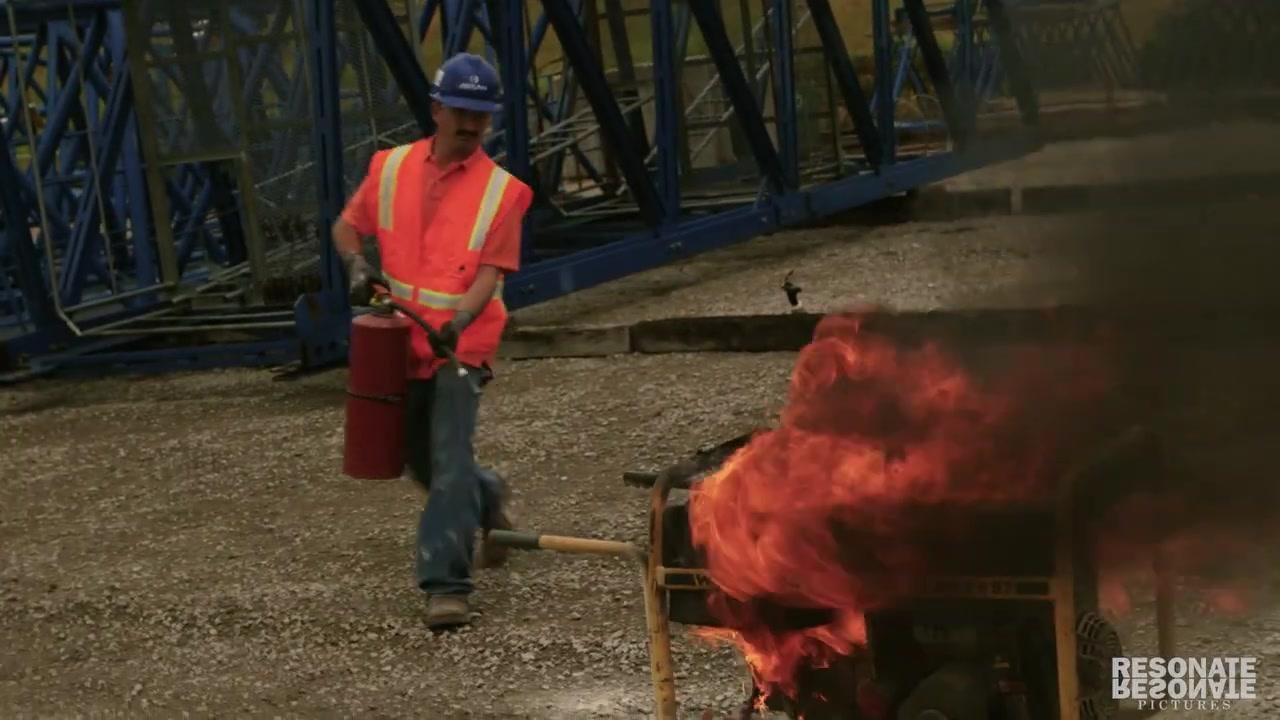vest: (360, 138, 534, 362)
